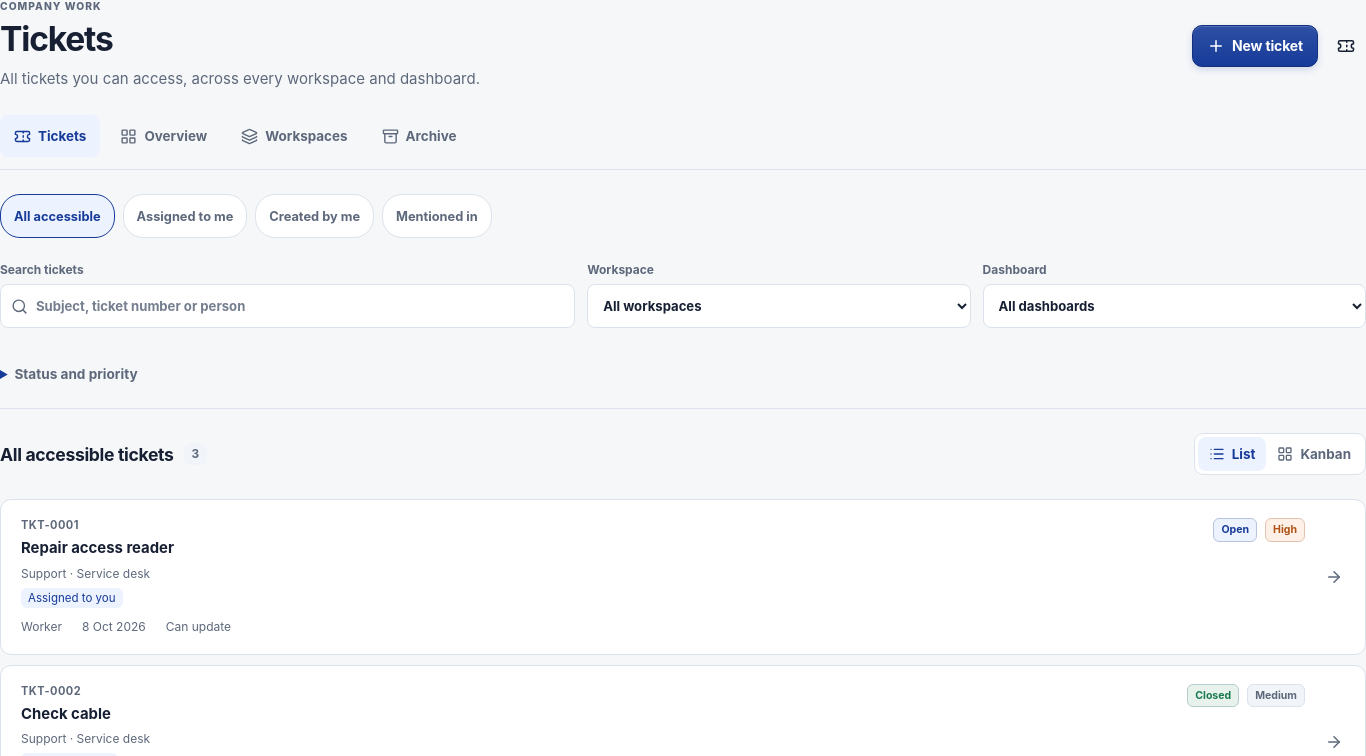
Test: Company ticket workspace › starts SUPER_ADMIN with every accessible active ticket across workspaces
Expected: the link "Repair access reader" is shown, [21,539,174,557]
Expected: the link "Check cable" is shown, [21,705,111,723]
Click the button "Assigned to me": (185, 216) [123,194,247,238]
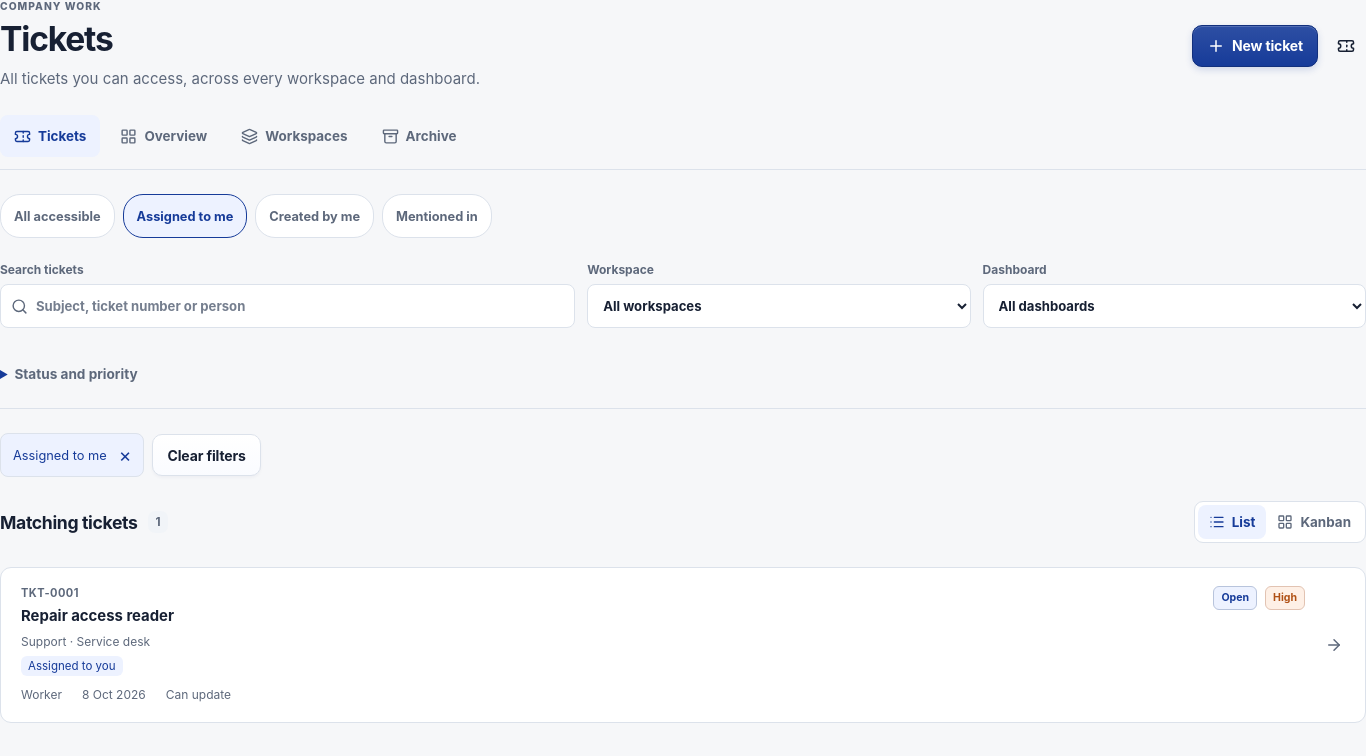
Expected: the link "Repair access reader" is shown, [21,607,174,625]
Result: the link "Check cable" is gone
Click the button "Created by me": (315, 216) [255,194,374,238]
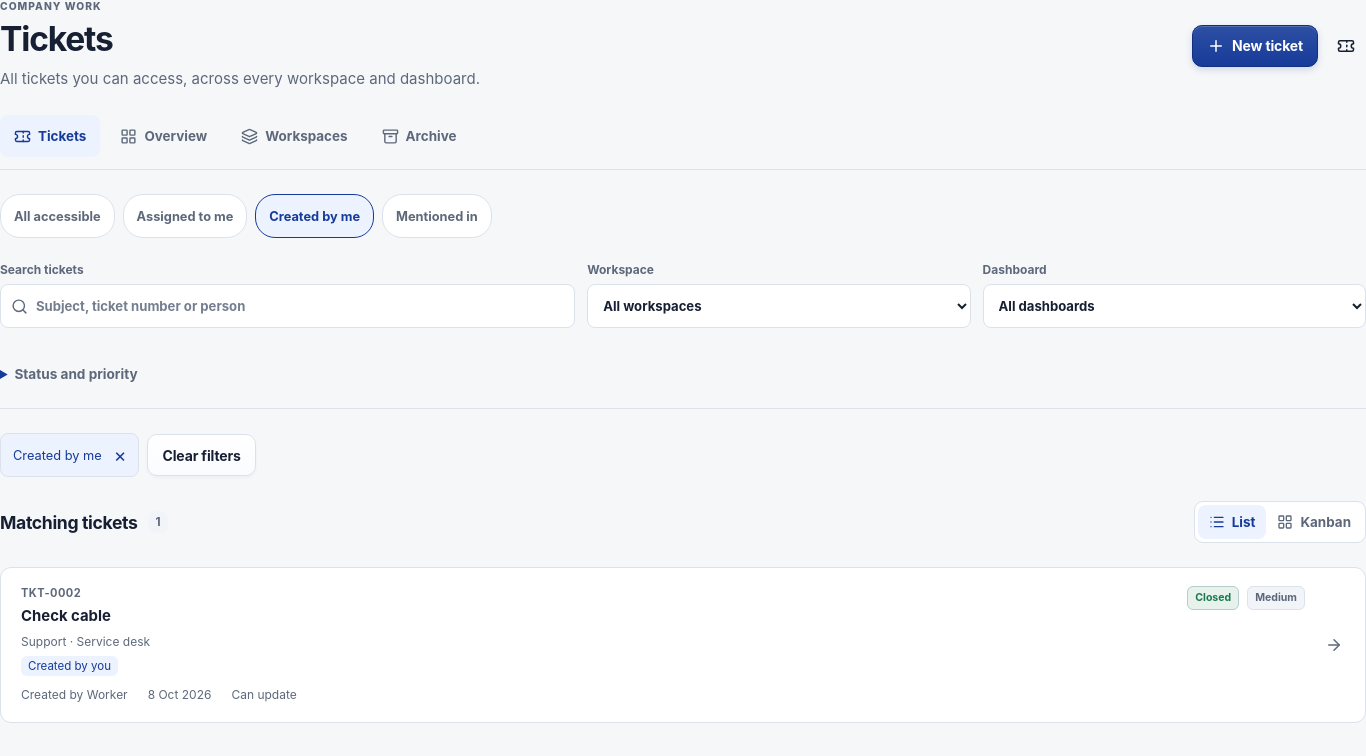
Result: the link "Check cable" is shown at [21,607,111,625]
Result: the link "Repair access reader" is gone
Click the button "Mentioned in": (437, 216) [382,194,492,238]
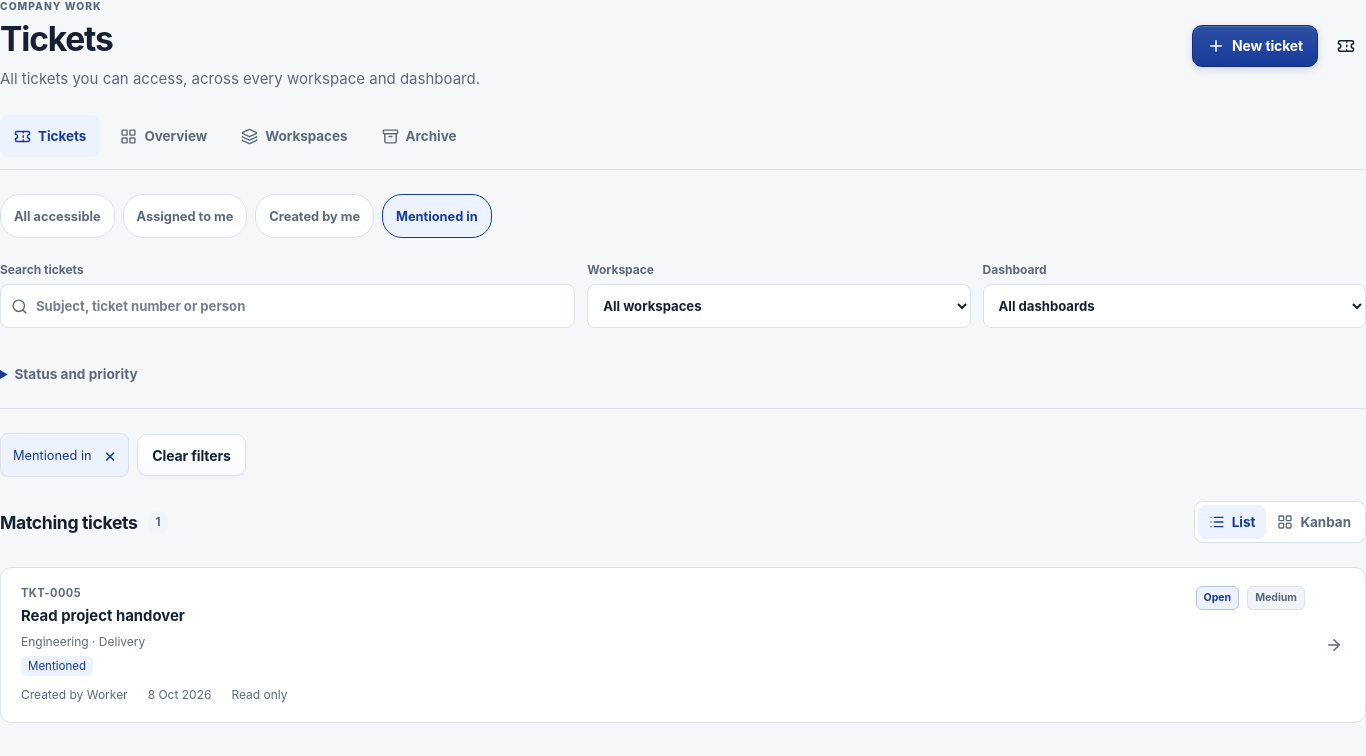
Result: the link "Read project handover" is shown at [21,607,185,625]
Result: the text "Read only" is shown at [231,686,288,704]
Result: the link "Check cable" is gone
